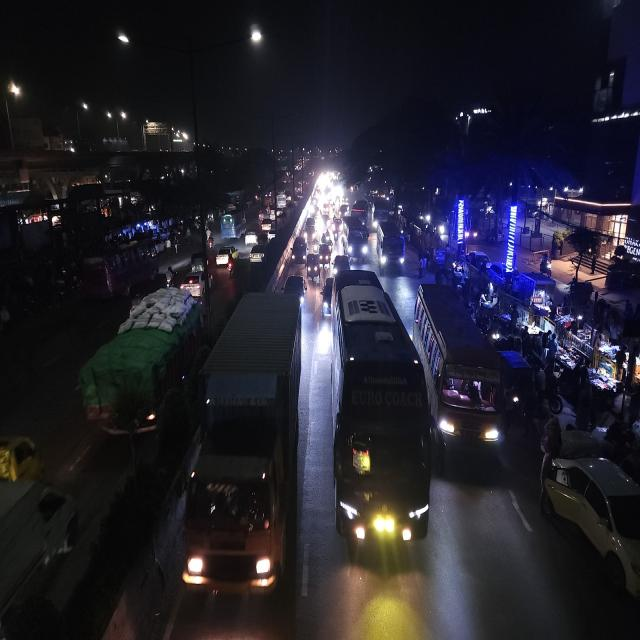bus: (329, 267, 426, 562), (415, 282, 507, 468), (84, 238, 158, 296), (375, 212, 407, 276), (341, 198, 371, 264), (219, 208, 247, 240)
car: (538, 440, 640, 615), (186, 267, 214, 302), (284, 272, 308, 301), (321, 272, 335, 320), (289, 234, 308, 265), (215, 243, 236, 268), (248, 242, 268, 268), (302, 213, 318, 243), (258, 212, 275, 229), (244, 228, 260, 246)
cng: (306, 252, 320, 285), (190, 250, 207, 275), (318, 239, 332, 266)
motorcycle: (164, 263, 176, 290), (207, 231, 215, 252)
truck: (183, 291, 307, 605), (75, 289, 198, 445)
